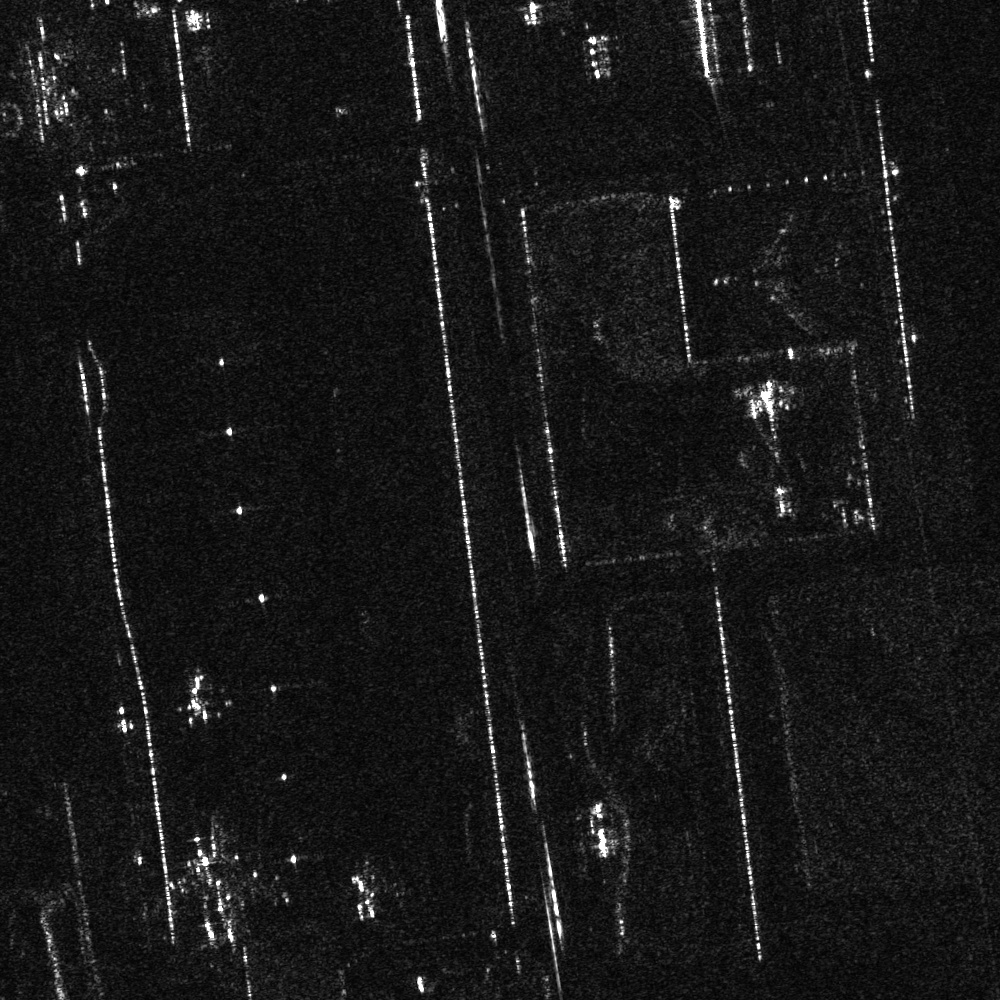A220: (333, 864, 393, 924)
other: (710, 191, 890, 345), (161, 823, 282, 950), (167, 669, 232, 730)
